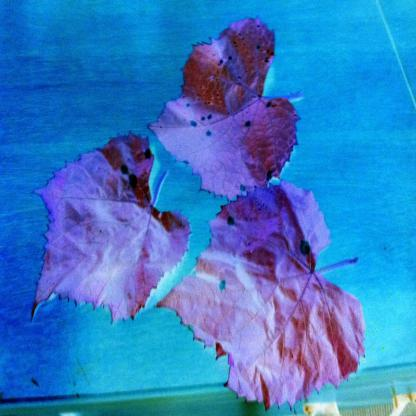grape leaf black rot: (163, 175, 364, 408), (153, 9, 302, 190)
